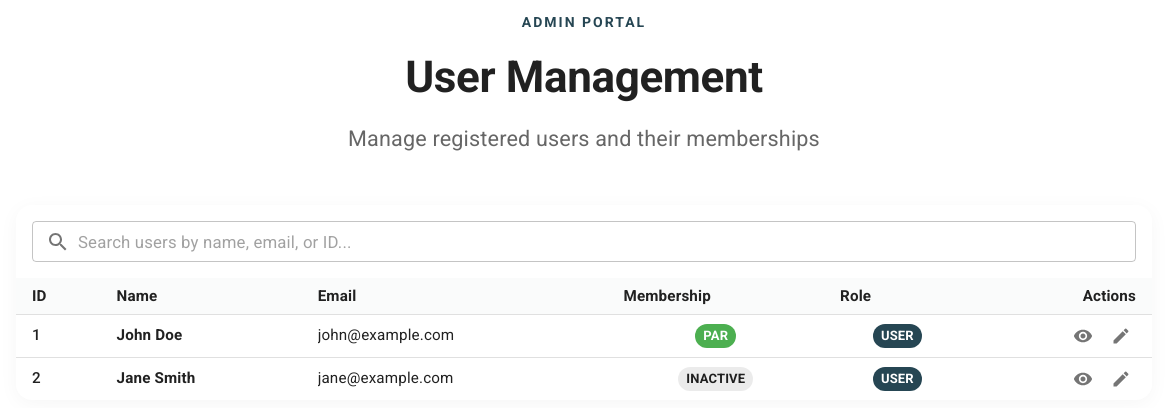
AdminUsers › should filter users based on search input
Expected: the text "John Doe" is shown, [117,326,182,344]
Type "Jane" into the field with placeholder "Search users by name, email, or ID..." at (607, 242), box [78,221,1136,262]
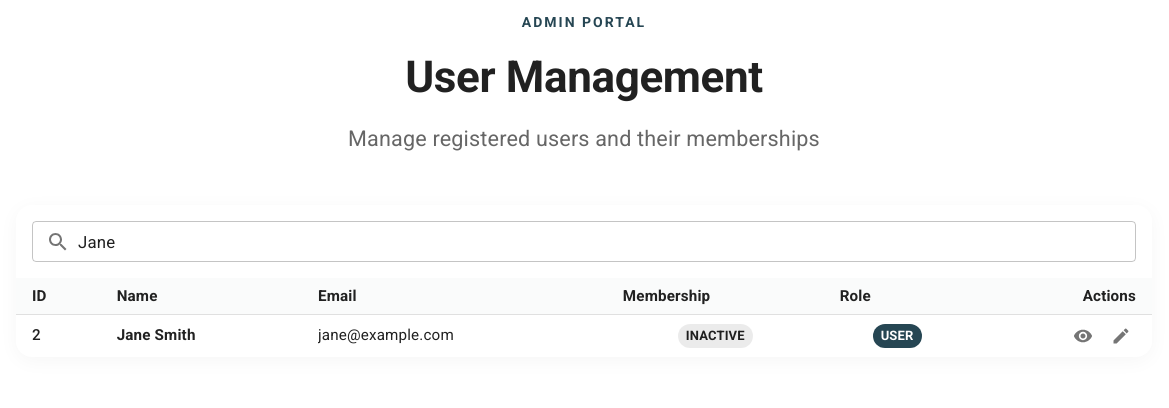
Expected: the text "Jane Smith" is shown, [117,326,196,344]
Expected: the text "John Doe" is gone
